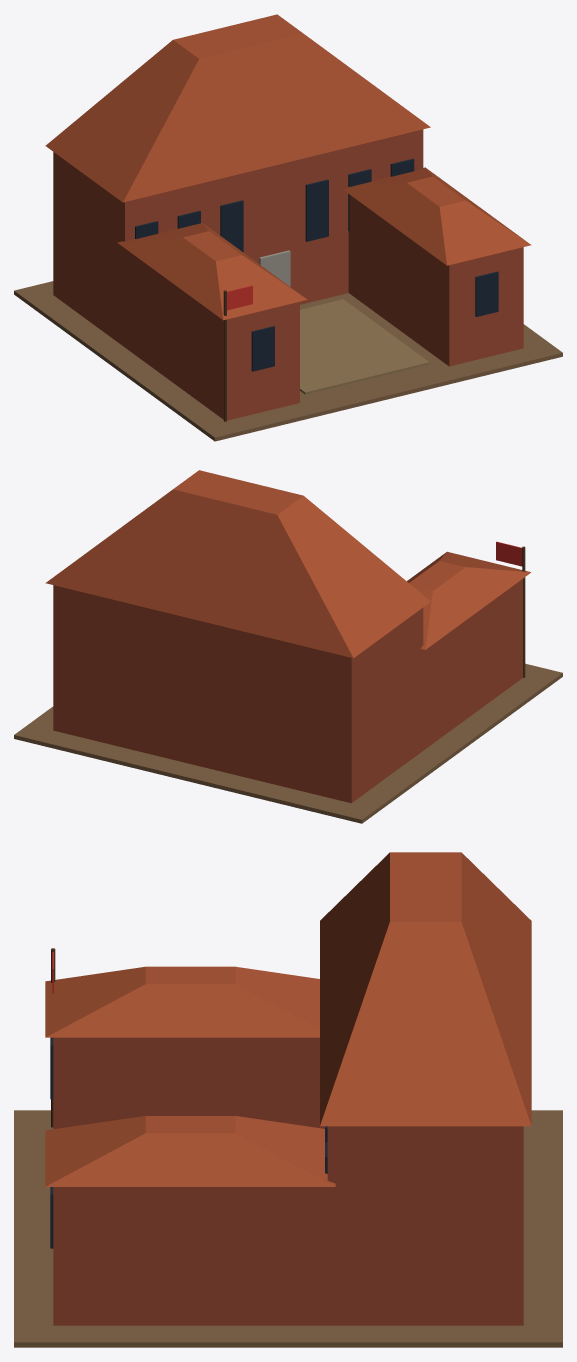
The model's file is bld_special_barracks_a04_lod1.glb.
The picture shows the model from 3 angles, top to bottom: view 1: azimuth 30°, elevation 25°; view 2: azimuth 150°, elevation 25°; view 3: azimuth 270°, elevation 25°; orthographic projection. The views are drawn at different scales.
Visible parts, largest first — view 1: body; view 2: body; view 3: body.
Part boxes in pixels (x1,y1,x2,y2): body: [14, 14, 562, 441]; body: [14, 470, 562, 823]; body: [14, 852, 562, 1347].
Bounding box in the file's own units: 14 × 9.69 × 14.
